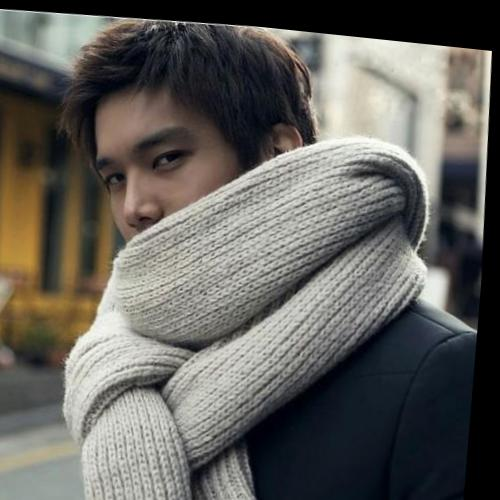WRONG: (89, 97, 263, 286)
